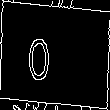O_N: (43, 27, 67, 83)
